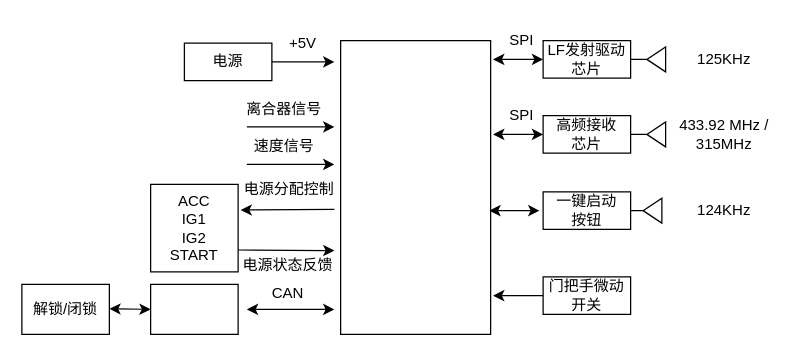
The diagram is 796 pixels wide and 356 high, and some of its shapes have lost their labels. The shapes that lost their labels are listed below. From the top down, each one's centre as x and y in pixels, then its label:
At [415,186]: "MCU".
At [193,308]: "BCM".
